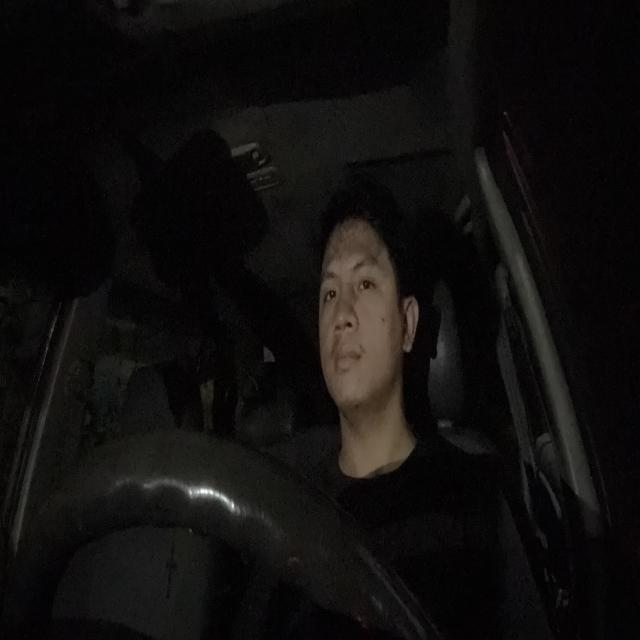open: (351, 253, 384, 304), (320, 266, 338, 314)
